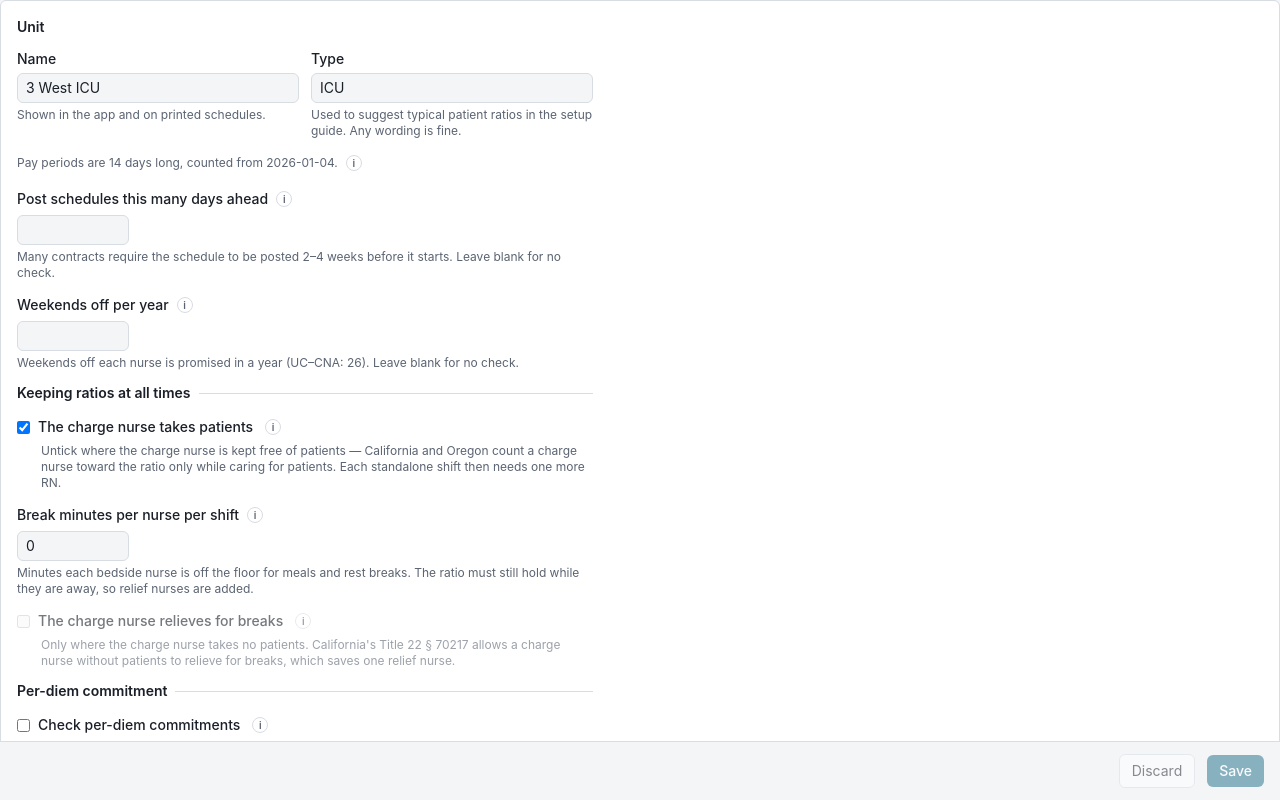
Test case: Settings › Unit per-diem commitment › will not save a part of a shift
Click the checkbox labelled "Check per-diem commitments". click: [24, 725]
box: [17, 718, 30, 732]
(page scrolled)
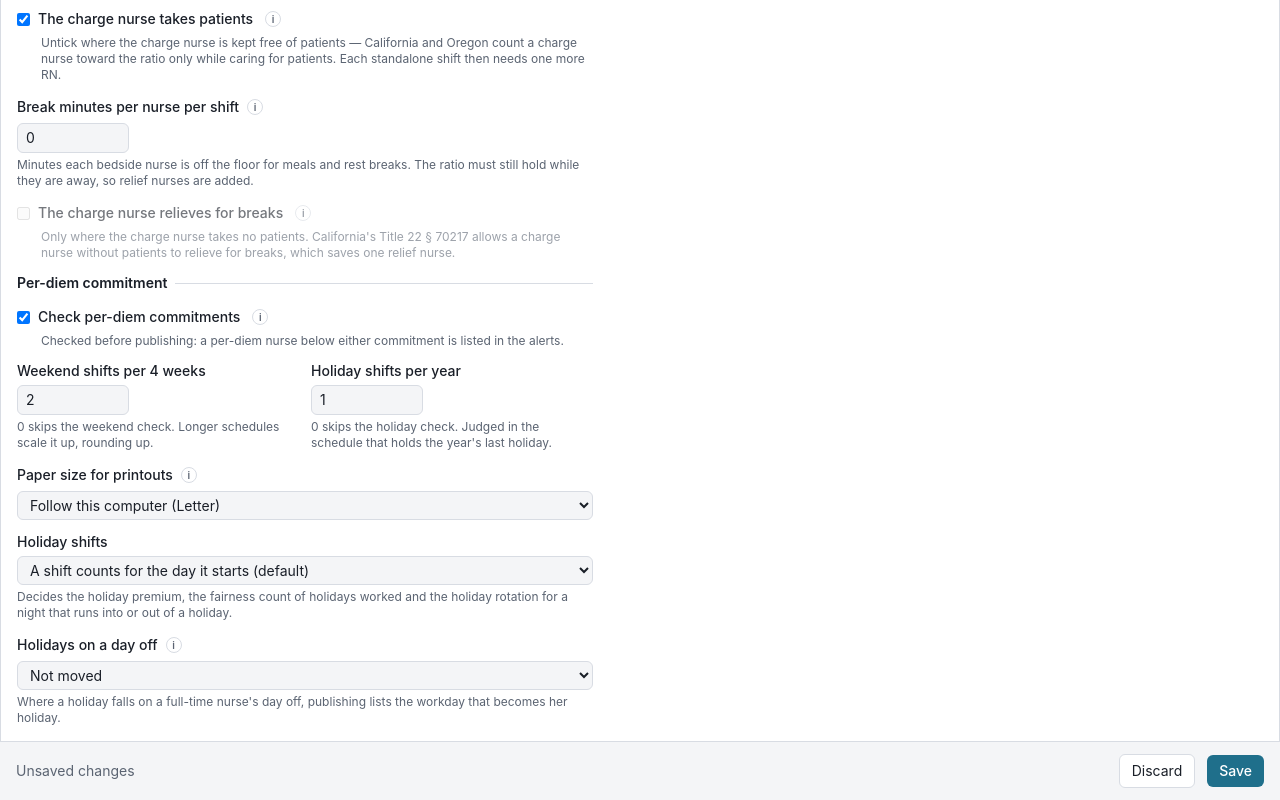
Replace the text in the number field labelled "Holiday shifts per year" with "1.5". click: [367, 400]
box: [311, 385, 423, 415]
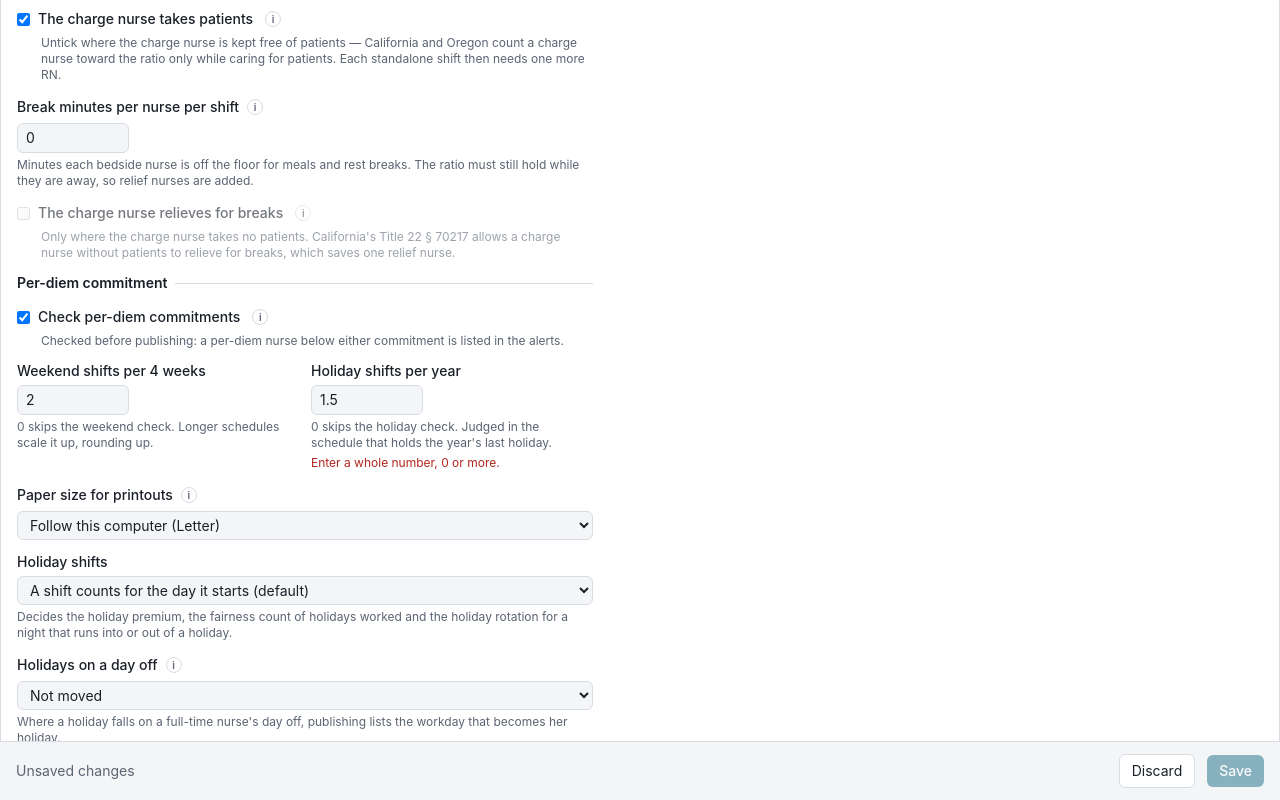
Expected: the button "Save" is disabled, [1207, 755, 1264, 787]
